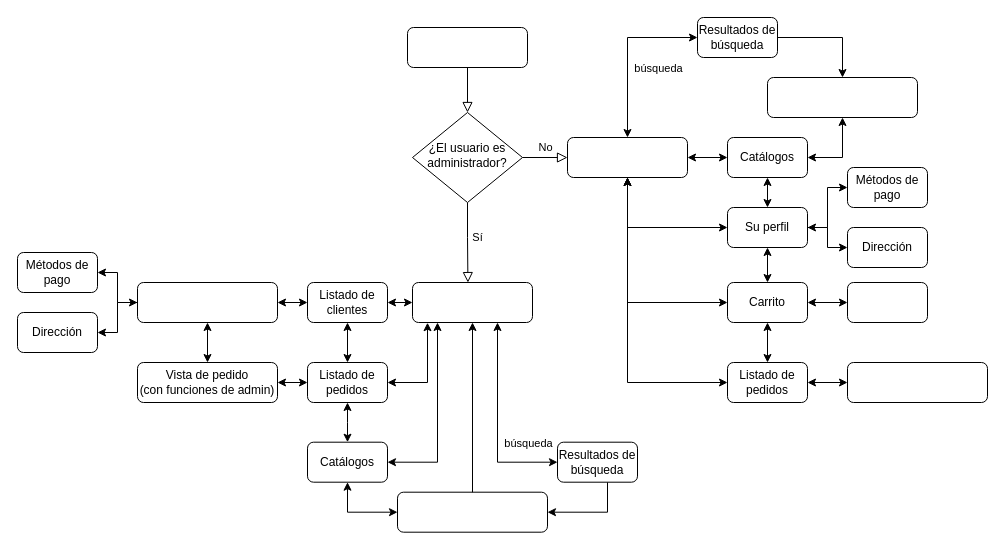
The diagram is 1005 pixels wide and 550 high, and some of its shapes have lost their labels. Here are the shapes that lost their labels. From the top down, the centre of each, then its label:
At pixel 467 47: "Inicio de sesión".
At pixel 842 97: "Página de producto (sin funciones de admin)".
At pixel 627 157: "Página de inicio para clientes".
At pixel 207 302: "Perfil de cliente".
At pixel 472 302: "Página de inicio para administradores".
At pixel 887 302: "Confirmación".
At pixel 917 382: "Vista de pedido (sin funciones de admin)".
At pixel 472 511: "Página de producto (con funciones de admin)".
